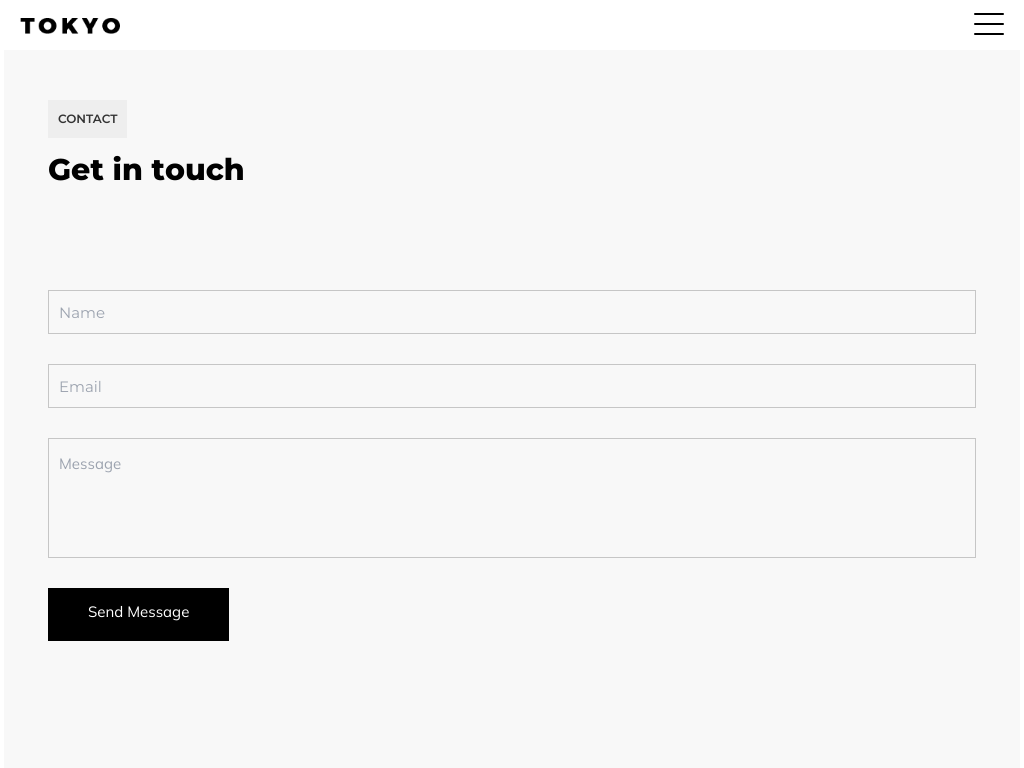
Test: Contact page › Submit actions › Should handle error response correctly
Type "Papa Gula" into the field with test id "form-name" at (512, 312), box [48,290,976,334]
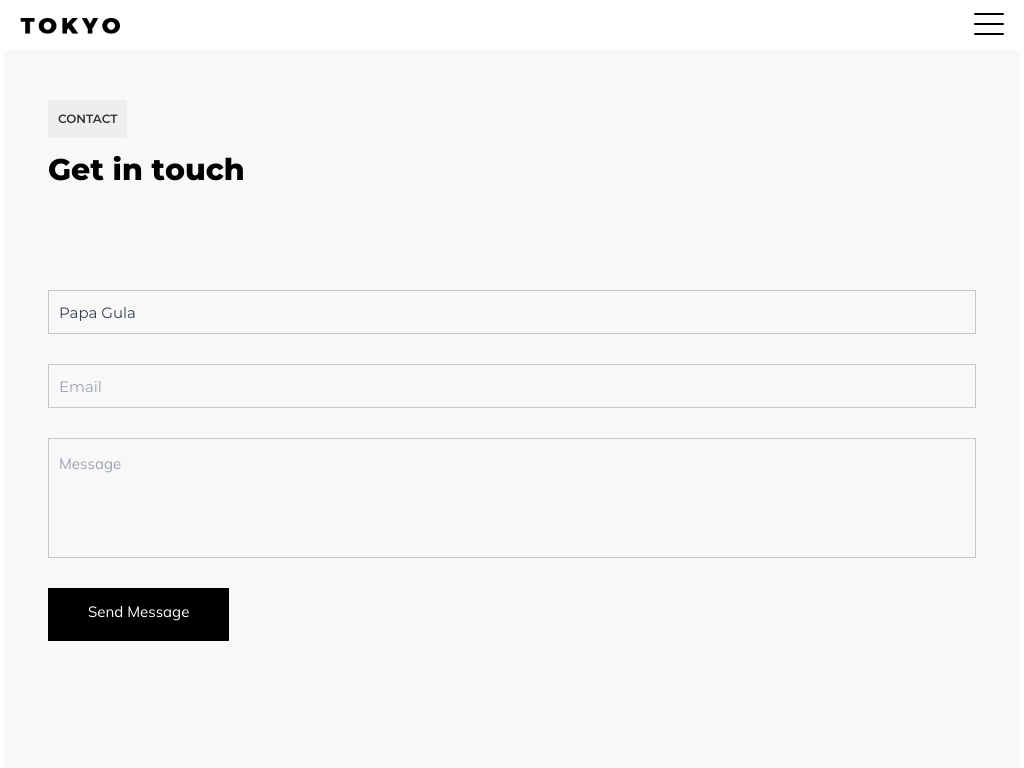
Type "papa@gula.com" into the field with test id "form-email" at (512, 386), box [48,364,976,408]
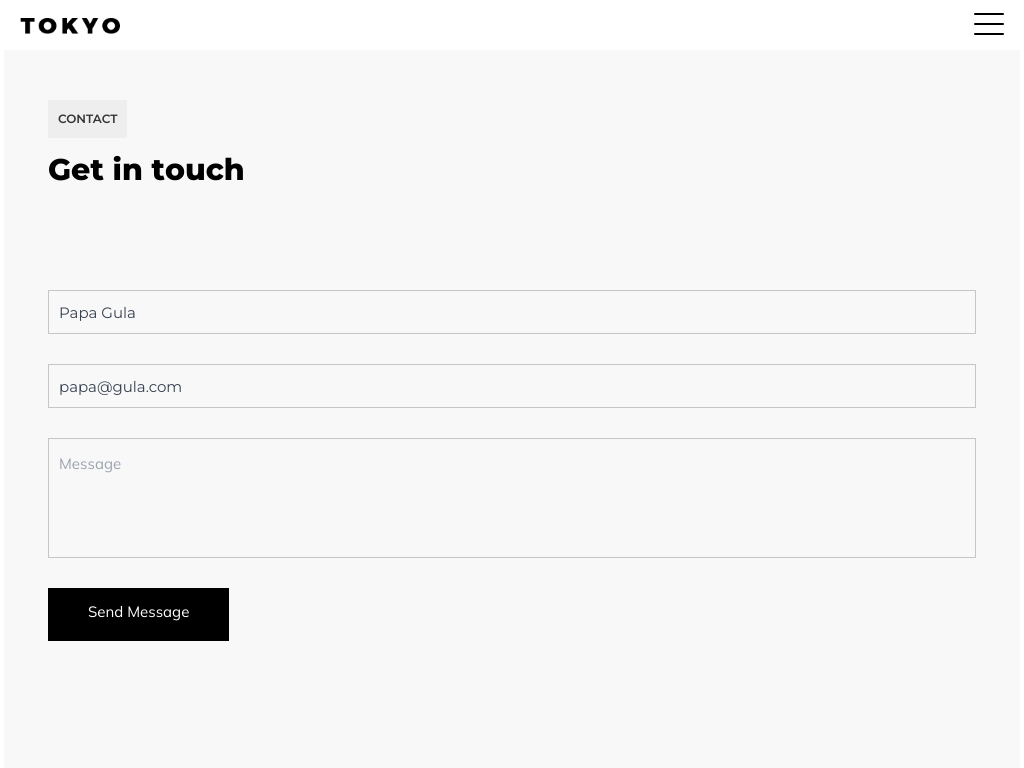
Type "Hi 👋🏻" into the text box with test id "form-message" at (512, 498), box [48,438,976,558]
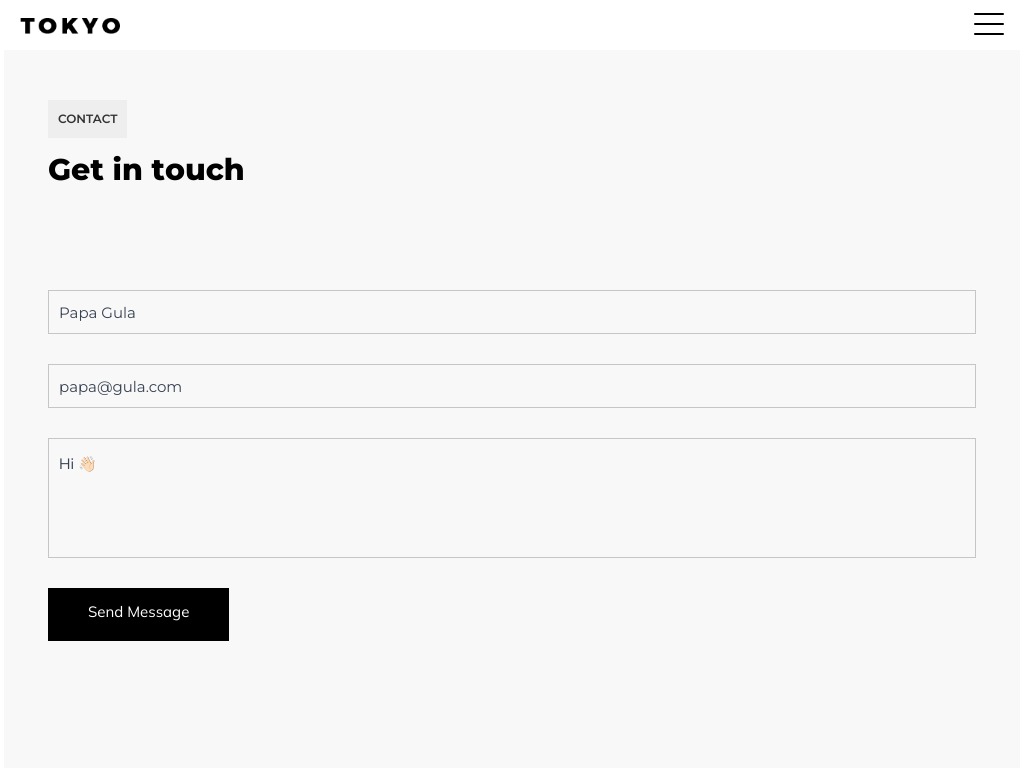
Click the button with test id "form-submit-button" at (139, 614), box [48,588,229,641]
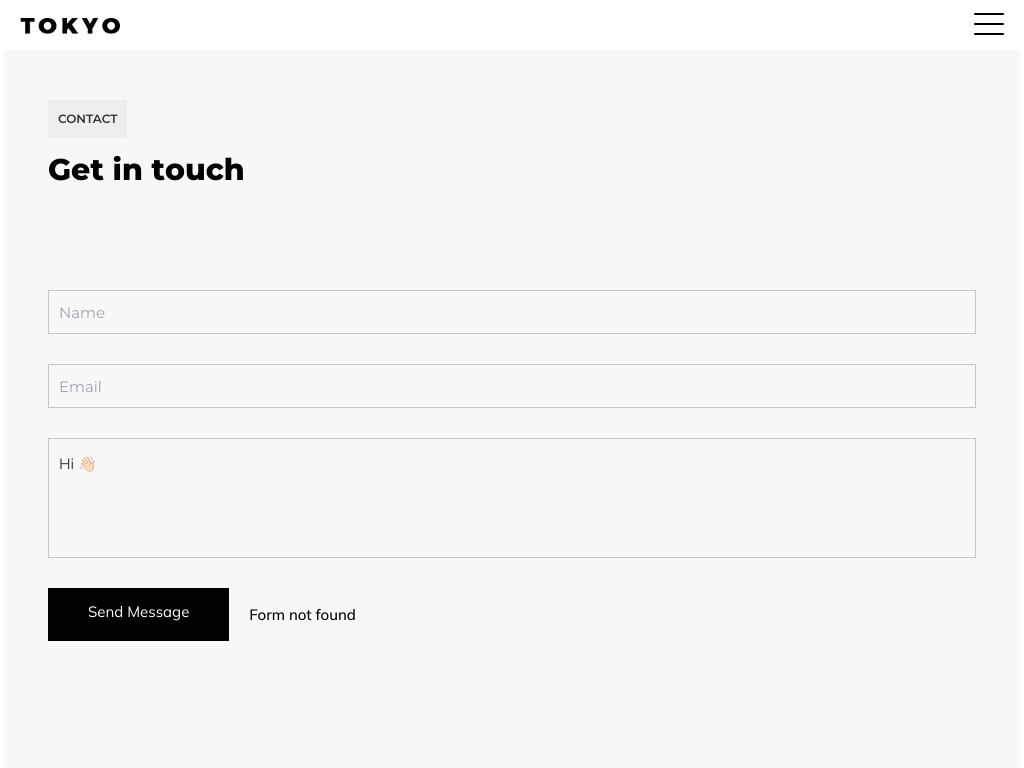
Result: the element with test id "form-submit-result" reads "Form not found" at [249,604,356,624]
